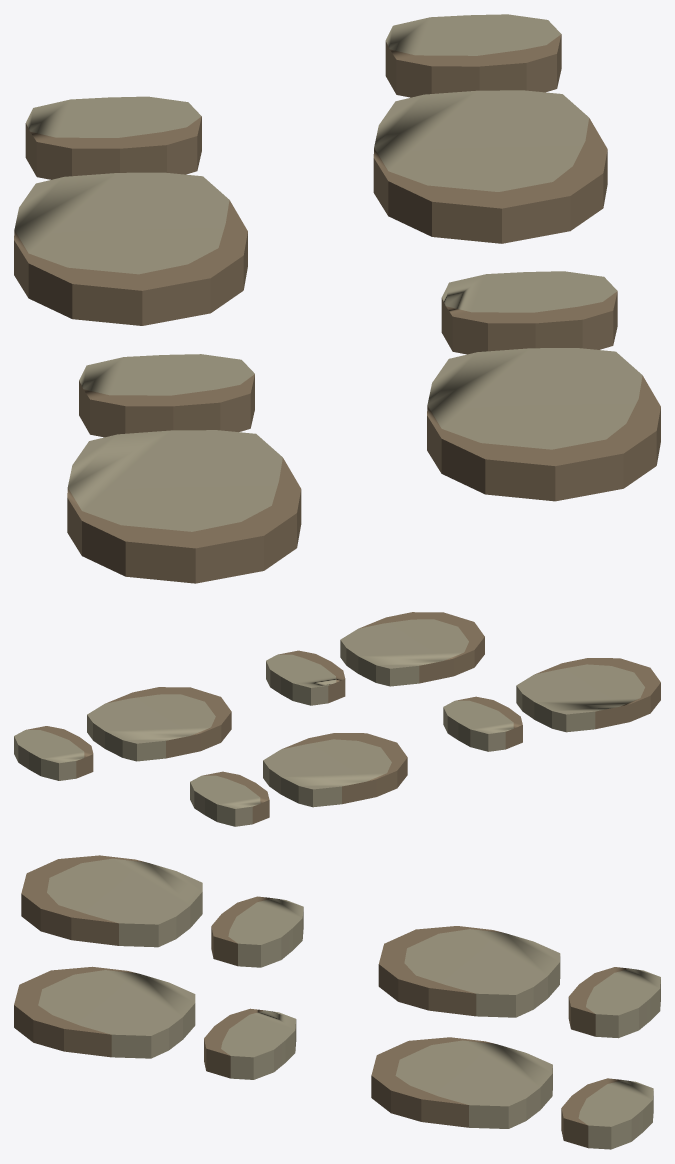
The model's file is NPC_Footprints_001.glb.
The picture shows the model from 3 angles, top to bottom: view 1: azimuth 30°, elevation 25°; view 2: azimuth 150°, elevation 25°; view 3: azimuth 270°, elevation 25°; orthographic projection. The views are drawn at different scales.
Parts seen in each view (by area): view 1: NPC_Footprints_001_mesh; view 2: NPC_Footprints_001_mesh; view 3: NPC_Footprints_001_mesh.
Boxes of the visible parts, <box> form: NPC_Footprints_001_mesh: <box>14,14,660,583</box>; NPC_Footprints_001_mesh: <box>14,612,660,826</box>; NPC_Footprints_001_mesh: <box>14,855,660,1149</box>.
Size of the model in its own units: 1.42 by 0.0554 by 1.43.
1 material, 1 textured.
